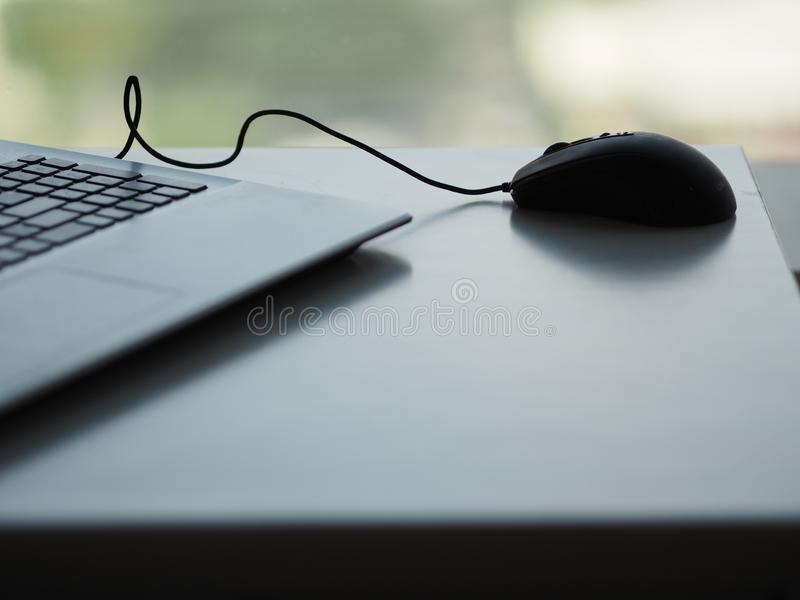mouse: (506, 122, 741, 246)
